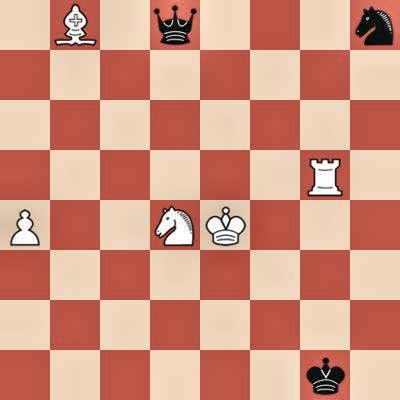black-king: (300, 350, 350, 400)
black-knight: (350, 0, 400, 50)
black-queen: (150, 0, 200, 50)
white-bishop: (50, 0, 100, 50)
white-king: (200, 200, 250, 250)
white-knight: (150, 200, 200, 250)
white-pawn: (0, 200, 50, 250)
white-rook: (300, 150, 350, 200)
